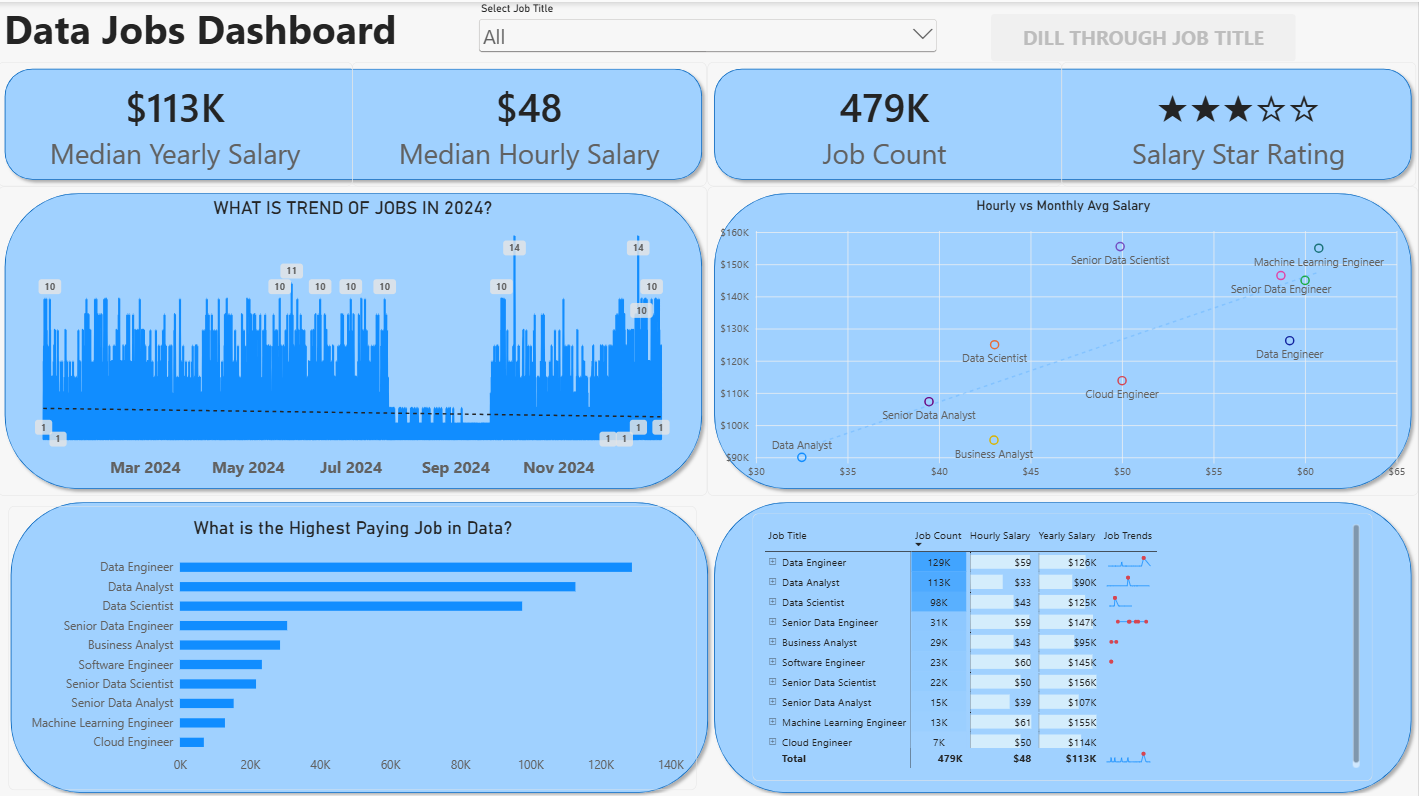

Layout of this report page (visuals, bound fields, positions):
{"tool":"powerbi","page":{"name":"Data Jobs Dashboard","canvas":[1920,1080],"ordinal":0},"visuals":[{"type":"group","id":"g1","title":"Background","box":[0,81.8,1919.3,997.1],"z":0},{"type":"shape","box":[0,81.8,960.8,168.1],"z":0,"group":"g1"},{"type":"textbox","box":[9.1,0,731.4,81.8],"z":1000},{"type":"shape","box":[958.5,81.8,960.8,168.1],"z":1000,"group":"g1"},{"type":"slicer","fields":{"Values":["job_postings_flat.job_title_short"]},"box":[645.1,0,629.2,81],"z":2000},{"type":"shape","box":[0,249.9,960.8,417.9],"z":2000,"group":"g1"},{"type":"card","fields":{"Values":["Median(job_postings_flat.salary_year_avg)"]},"box":[0,81.8,479.2,168.1],"z":3000},{"type":"shape","box":[958.5,667.8,960.8,411.1],"z":3000,"group":"g1"},{"type":"card","fields":{"Values":["Median(job_postings_flat.salary_hour_avg)"]},"box":[479.2,81.8,479.2,168.1],"z":4000},{"type":"shape","box":[9.1,667.8,960.8,411.1],"z":4000,"group":"g1"},{"type":"card","fields":{"Values":["CountNonNull(job_postings_flat.job_title_short)"]},"box":[958.5,81.8,479.2,168.1],"z":5000},{"type":"shape","box":[958.5,249.9,960.8,417.9],"z":5000,"group":"g1"},{"type":"card","fields":{"Values":["job_postings_flat.Salary Star Rating"]},"box":[1437.7,81.8,479.2,168.1],"z":6000},{"type":"lineChart","title":"WHAT IS TREND OF JOBS IN 2024?","fields":{"Category":["job_postings_flat.job_posted_date.Variation.Date Hierarchy.Year"],"Y":["CountNonNull(job_postings_flat.job_title_short)"]},"box":[0,249.8,958.5,417.9],"z":7000},{"type":"barChart","title":"What is the Highest Paying Job in Data?","fields":{"Category":["job_postings_flat.job_title_short"],"Y":["CountNonNull(job_postings_flat.job_title_short)"]},"box":[14.4,681.7,930.2,384.2],"z":8000},{"type":"pivotTable","fields":{"Rows":["job_postings_flat.job_title_short","job_postings_flat.job_posted_date.Variation.Date Hierarchy.Year"],"Values":["CountNonNull(job_postings_flat.job_title_short)","Median(job_postings_flat.salary_hour_avg)","Median(job_postings_flat.salary_year_avg)","SparklineData(CountNonNull(job_postings_flat.job_title_short)_[job_postings_flat.job_posted_date.Variation.Date Hierarch"]},"box":[1019.7,690.4,837.7,361.1],"z":9000},{"type":"scatterChart","title":"Hourly vs Monthly Avg Salary","fields":{"X":["Median(job_postings_flat.salary_hour_avg)"],"Y":["Median(job_postings_flat.salary_year_avg)"],"Series":["job_postings_flat.job_title_short"]},"box":[958.5,249.8,960.8,417.9],"z":10000},{"type":"actionButton","title":"DRILL THROUGH JOB TITLE","box":[1342.9,16.6,412.1,63.9],"z":11000}]}

Visuals, with their boxes in screenshot pixels (x1, y1, x2, y2), scaled from the page's 1920x1080 canvas onto the 1419x796 screenshot:
"Background" group: bbox=(0, 60, 1418, 795)
shape: bbox=(0, 60, 710, 184)
textbox: bbox=(7, 0, 547, 60)
shape: bbox=(708, 60, 1418, 184)
slicer - job_postings_flat.job_title_short: bbox=(477, 0, 942, 60)
shape: bbox=(0, 184, 710, 492)
card - Median(job_postings_flat.salary_year_avg): bbox=(0, 60, 354, 184)
shape: bbox=(708, 492, 1418, 795)
card - Median(job_postings_flat.salary_hour_avg): bbox=(354, 60, 708, 184)
shape: bbox=(7, 492, 717, 795)
card - CountNonNull(job_postings_flat.job_title_short): bbox=(708, 60, 1063, 184)
shape: bbox=(708, 184, 1418, 492)
card - job_postings_flat.Salary Star Rating: bbox=(1063, 60, 1417, 184)
"WHAT IS TREND OF JOBS IN 2024?" lineChart: bbox=(0, 184, 708, 492)
"What is the Highest Paying Job in Data?" barChart: bbox=(11, 502, 698, 786)
pivotTable - job_postings_flat.job_title_short x job_postings_flat.job_posted_date.Variation.Date Hierarchy.Year: bbox=(754, 509, 1373, 775)
"Hourly vs Monthly Avg Salary" scatterChart: bbox=(708, 184, 1418, 492)
"DRILL THROUGH JOB TITLE" actionButton: bbox=(992, 12, 1297, 59)
